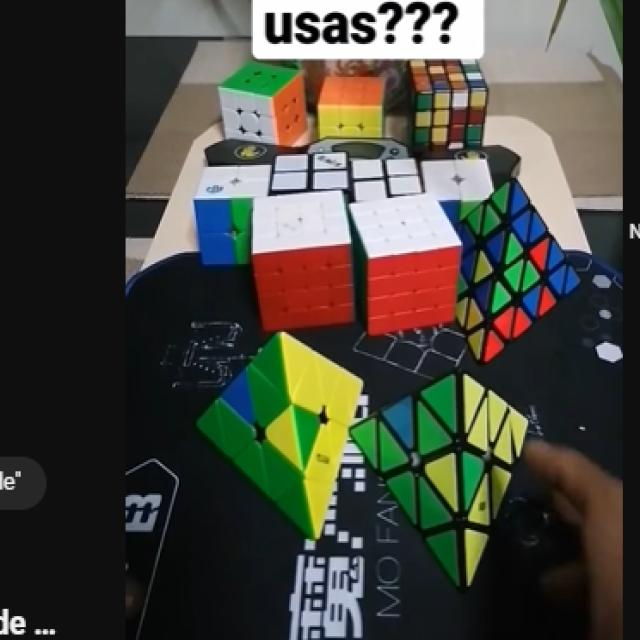Cubo-No-resuelto: (408, 57, 490, 160), (194, 165, 268, 262)
Cubo-Resuelto: (351, 194, 459, 332), (251, 187, 353, 328), (220, 61, 305, 145), (318, 77, 382, 136)
Pyraminx: (351, 369, 525, 590), (198, 332, 361, 537), (456, 178, 576, 361)
